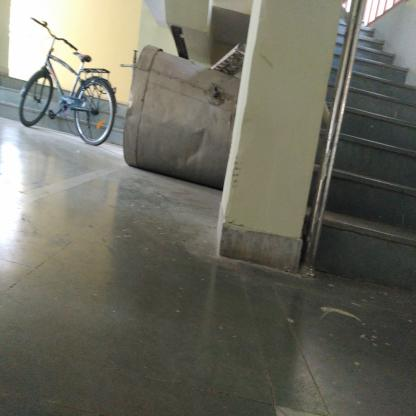stairs: (352, 86, 415, 302)
